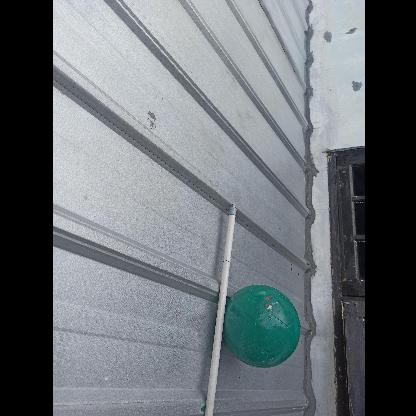green_ball: (220, 286, 302, 368)
